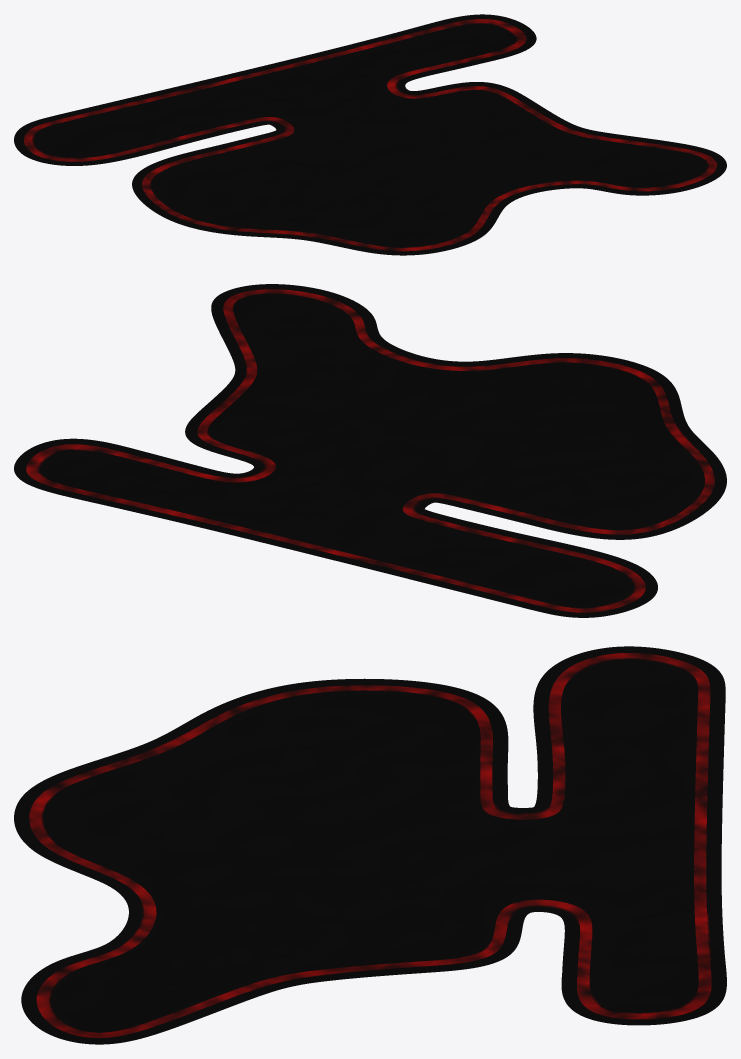
Rendered from SM_TrackBase.fbx.
3 renders of one model, top to bottom at view 1: azimuth 30°, elevation 25°; view 2: azimuth 150°, elevation 25°; view 3: azimuth 270°, elevation 25°, orthographic. The views are drawn at different scales.
Parts seen in each view (by area): view 1: TERRAIN; view 2: TERRAIN; view 3: TERRAIN.
Part boxes in pixels (x1=…): TERRAIN: x1=14, y1=14, x2=726, y2=255; TERRAIN: x1=14, y1=284, x2=726, y2=617; TERRAIN: x1=14, y1=646, x2=726, y2=1044.
Size of the model in its own units: 1818 by 16.68 by 1396.
